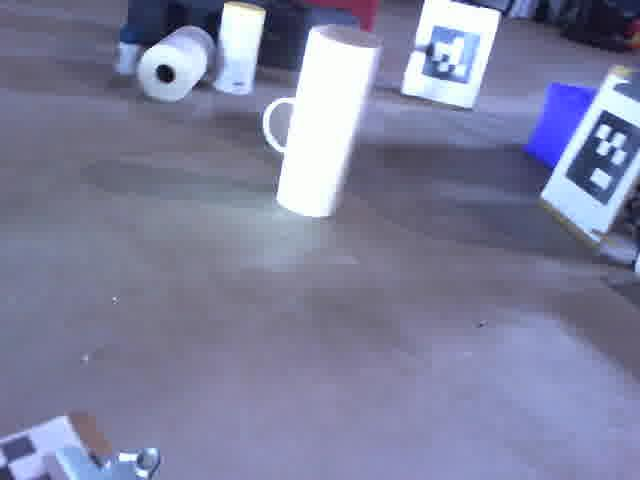coral: (271, 18, 392, 216), (259, 85, 299, 159)
